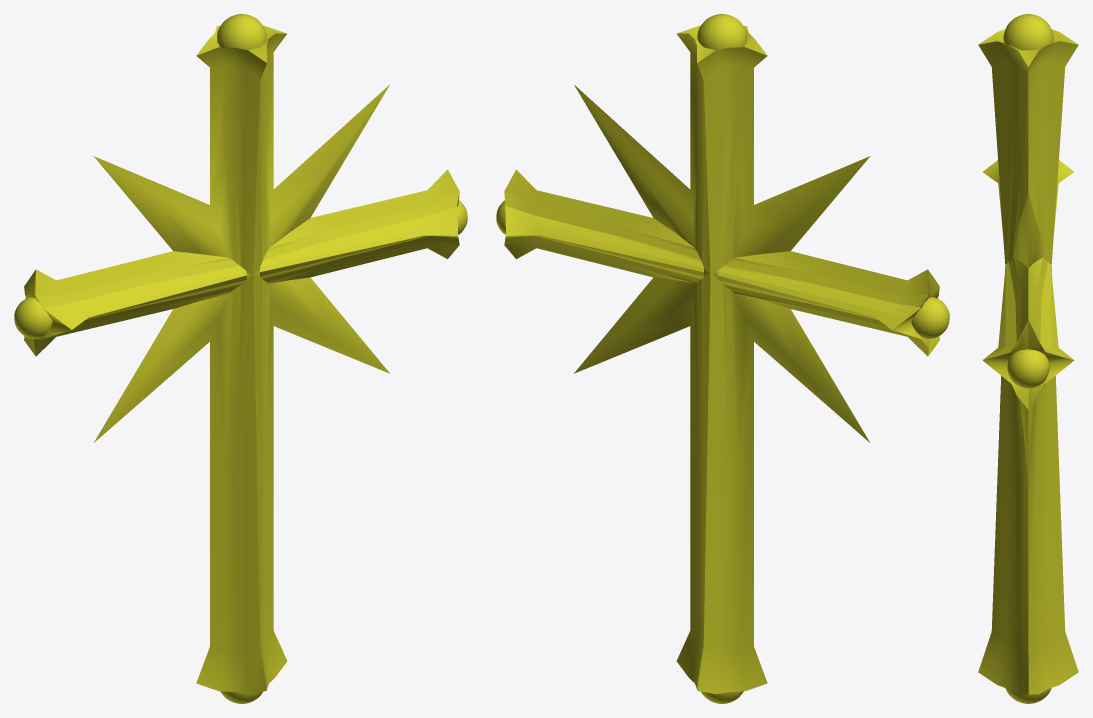
File: GoldKey.fbx
3 views of the same model, side by side, from view 1: azimuth 30°, elevation 25°; view 2: azimuth 150°, elevation 25°; view 3: azimuth 270°, elevation 25° (orthographic).
Visible parts, largest first — view 1: pCube1, pSphere1, pSphere3; view 2: pCube1, pSphere1, pSphere3; view 3: pCube1, pSphere1, pSphere4, pSphere2.
Part boxes in pixels (<box>): pCube1: <box>24,25,459,694</box>; pSphere1: <box>217,14,266,50</box>; pSphere3: <box>14,297,52,338</box>; pCube1: <box>504,25,939,694</box>; pSphere1: <box>697,14,746,49</box>; pSphere3: <box>911,297,949,338</box>; pCube1: <box>978,29,1078,694</box>; pSphere1: <box>1003,14,1053,50</box>; pSphere4: <box>1007,349,1049,388</box>; pSphere2: <box>1005,688,1051,703</box>.
Size of the model in its own units: 2.45 by 3.58 by 0.4769.
